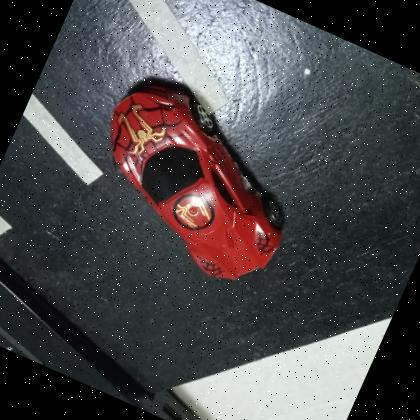Car: (66, 68, 324, 300)
